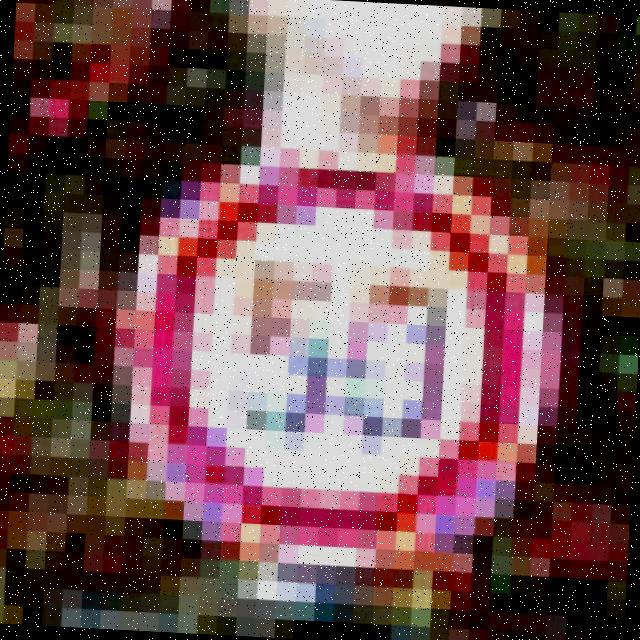Ograniczenie predkosci do 50: (132, 148, 542, 556)
